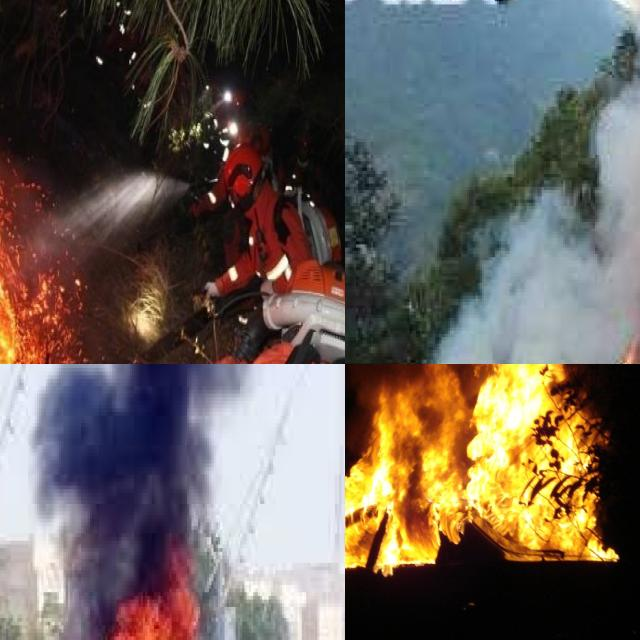fire: (345, 364, 622, 567), (58, 541, 211, 640), (593, 327, 640, 364)
smoke: (392, 0, 640, 364), (33, 364, 249, 594)
